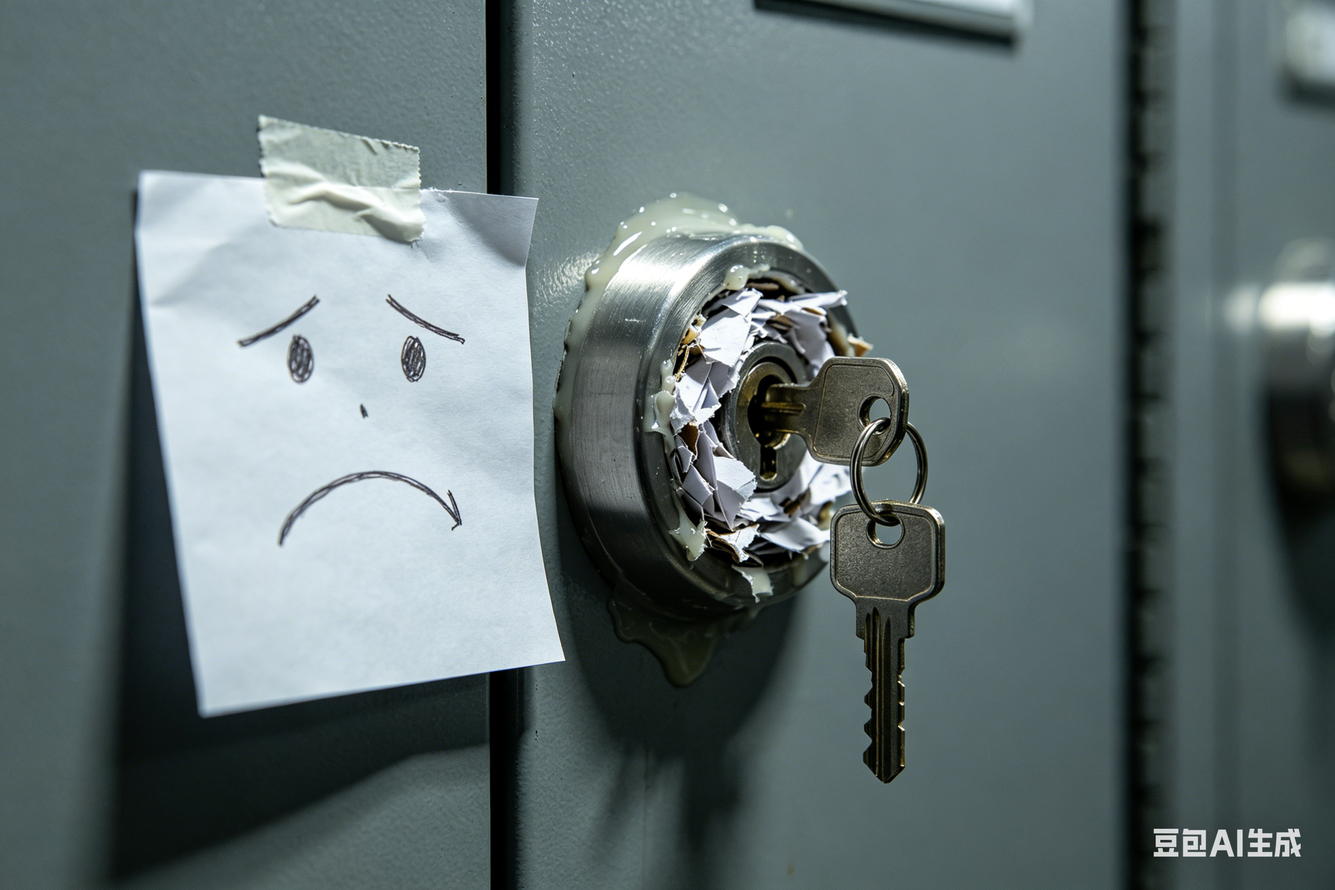BadLock: (659, 246, 882, 587)
